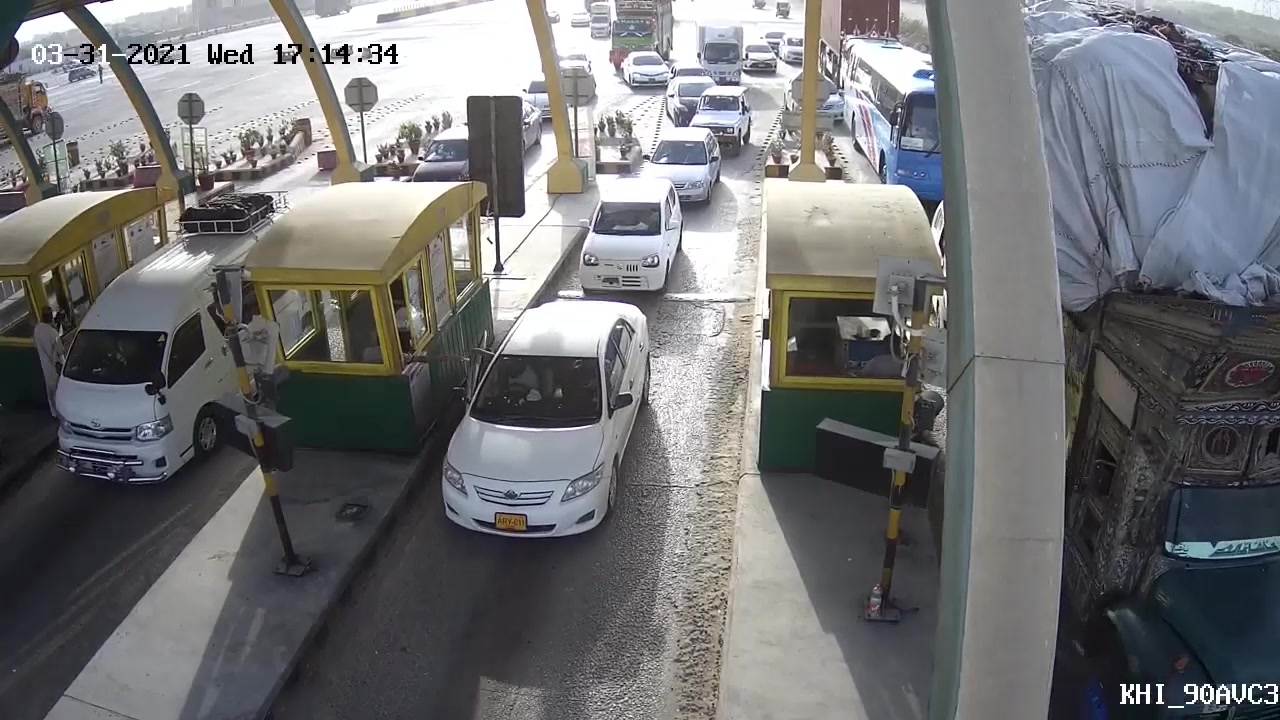F1: (437, 294, 657, 569), (566, 180, 686, 298)
